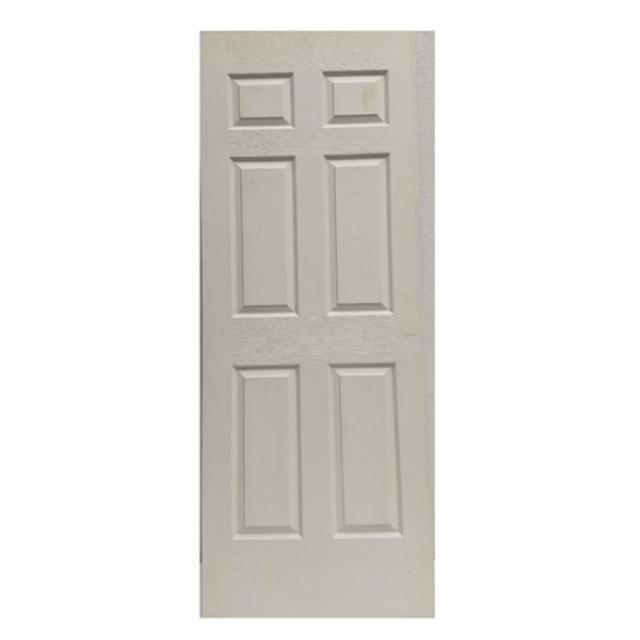door: (199, 30, 436, 619)
